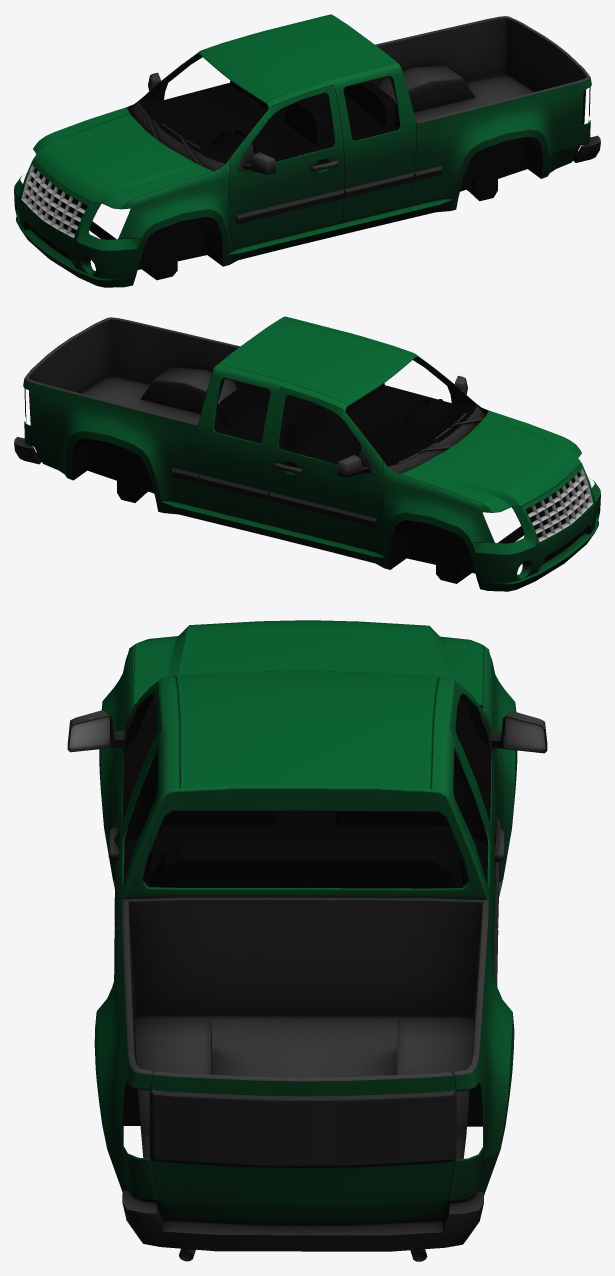
Rendered from car2.glb.
The picture shows the model from 3 angles, top to bottom: view 1: azimuth 30°, elevation 25°; view 2: azimuth 150°, elevation 25°; view 3: azimuth 270°, elevation 25°; orthographic projection. The views are drawn at different scales.
Visible parts, largest first — view 1: Pickup Body_Body_0; view 2: Pickup Body_Body_0; view 3: Pickup Body_Body_0.
Part boxes in pixels (x1=…): Pickup Body_Body_0: x1=14, y1=14, x2=600, y2=287; Pickup Body_Body_0: x1=14, y1=316, x2=600, y2=591; Pickup Body_Body_0: x1=67, y1=620, x2=547, y2=1261.
Size of the model in its own units: 5.18 by 1.51 by 2.07.
Materials: 1 (1 with a texture image).
